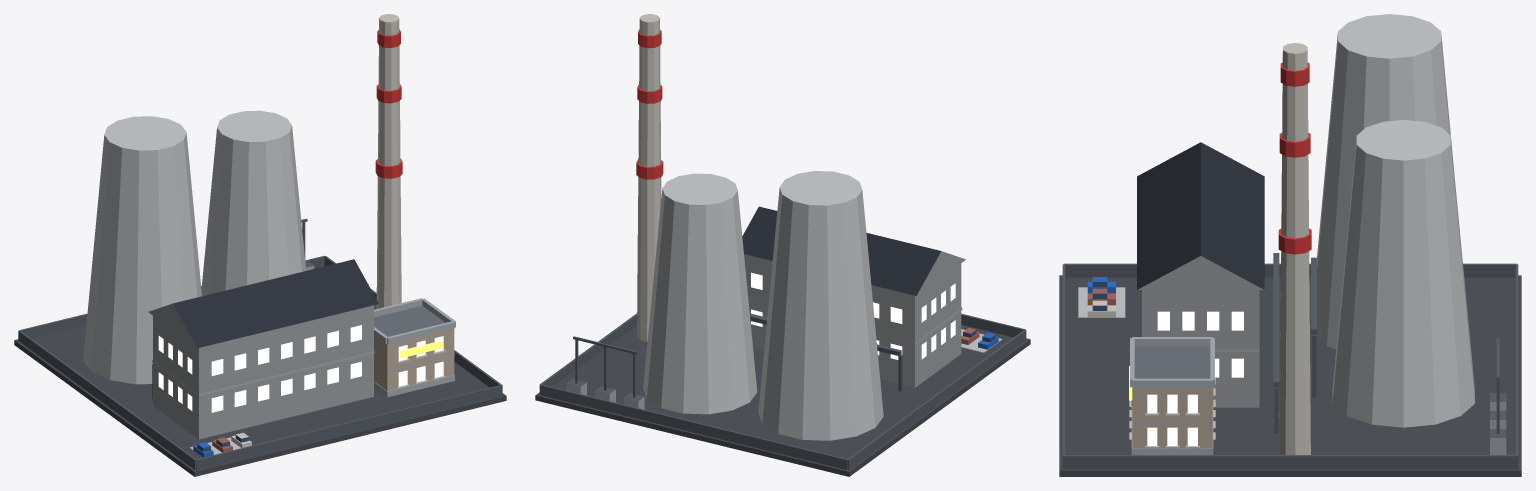
The picture shows the model from 3 angles, left to right: view 1: azimuth 30°, elevation 25°; view 2: azimuth 150°, elevation 25°; view 3: azimuth 270°, elevation 25°; orthographic projection. The views are drawn at different scales.
Parts seen in each view (by area): view 1: b81_x2; view 2: b81_x2; view 3: b81_x2.
Part boxes in pixels (bbox=[...]): b81_x2: bbox=[14, 14, 506, 476]; b81_x2: bbox=[535, 14, 1030, 476]; b81_x2: bbox=[1059, 14, 1521, 476].
Bounding box in the file's own units: 1.96 × 1.93 × 1.96.
